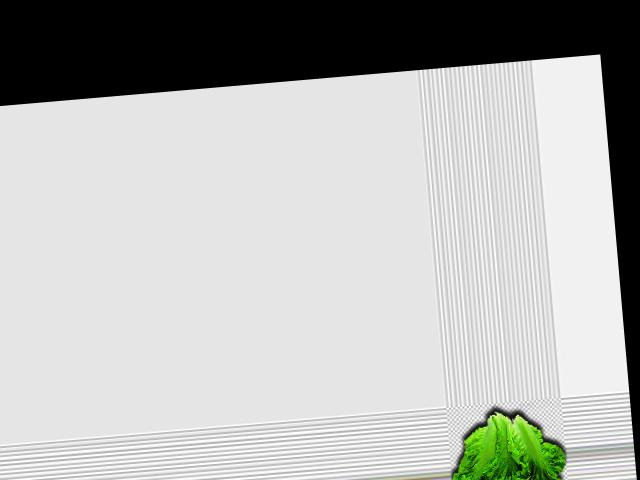lettuce: (449, 403, 571, 480)
